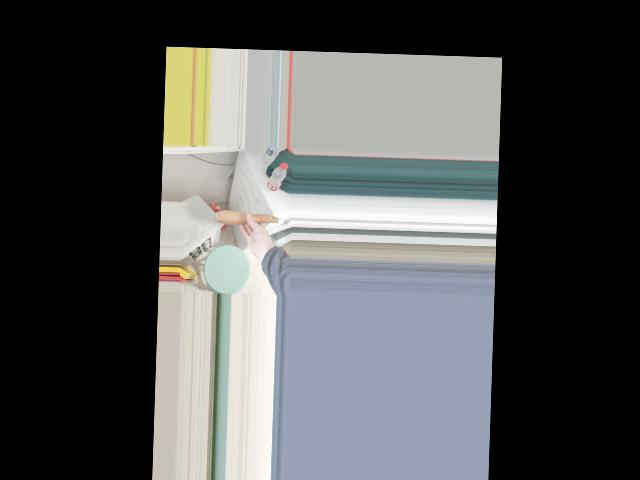sweet_potato: (215, 209, 279, 231)
